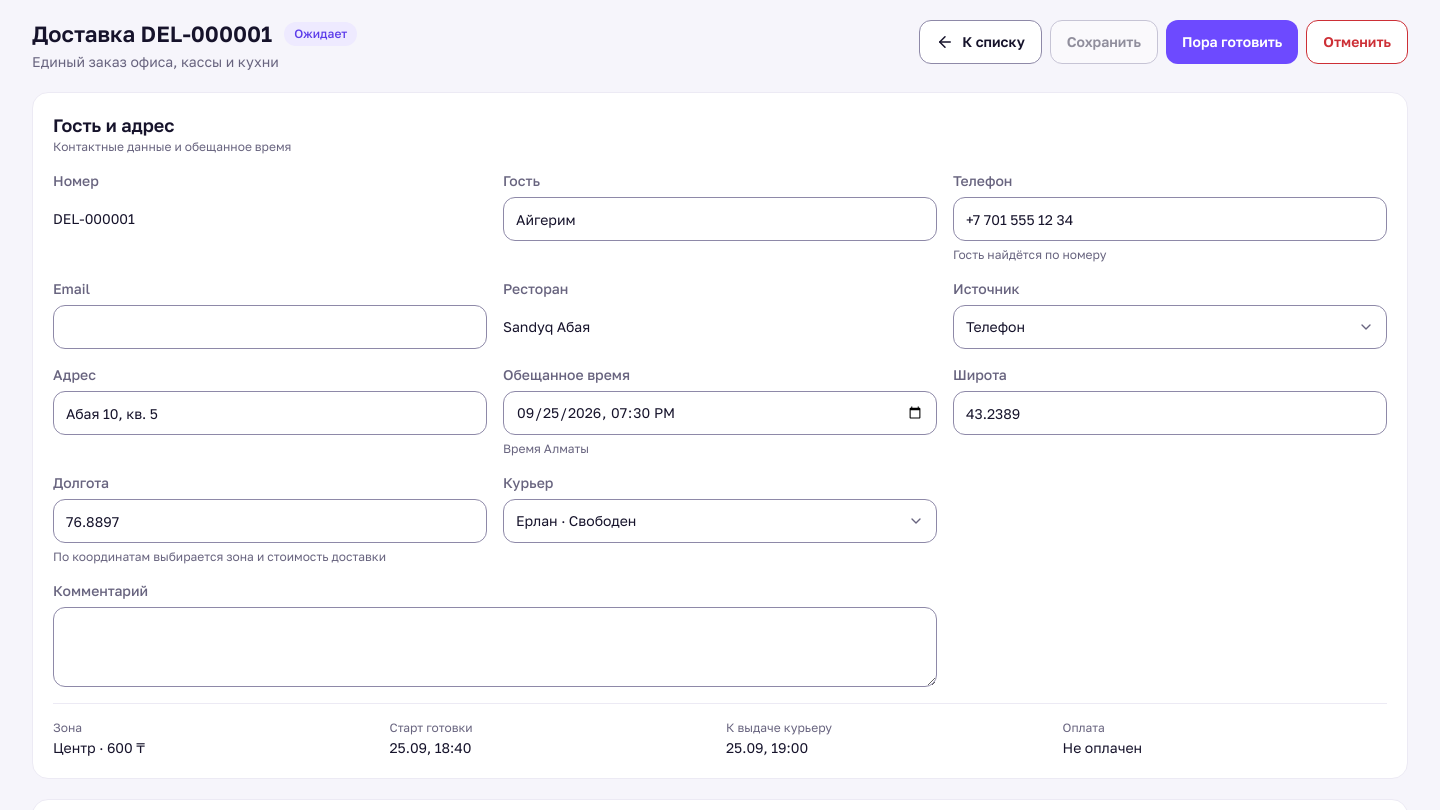
Scenario: order card transitions (W2-DLV-03/05, office-details/11) › keeps the moves disabled while an editable order has unsaved changes
Expected: the button "Пора готовить" is enabled, [1166,20,1298,64]
Replace the text in the field labelled "Адрес" with "Абая 12". click: coordinates (270, 413)
box: [53,391,487,435]
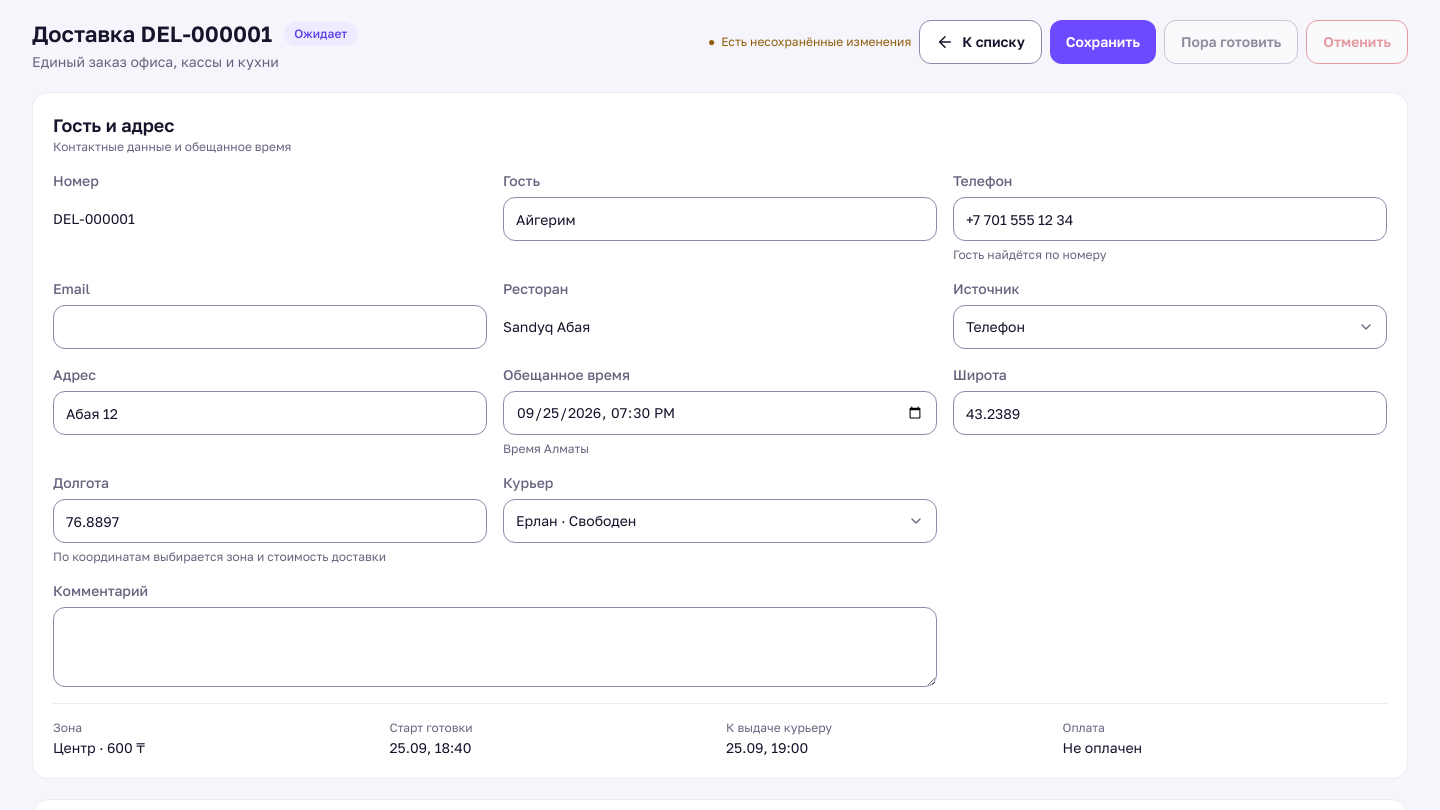
Result: the button "Пора готовить" is disabled at [1164,20,1298,64]
Result: the text "Есть несохранённые изменения" is shown at [721,34,911,50]
